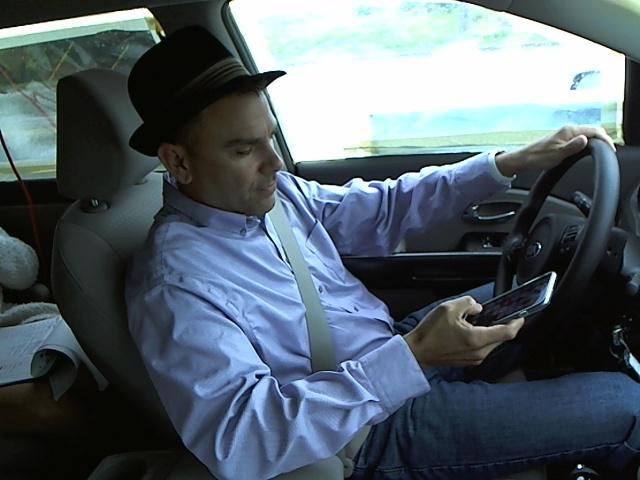PhoneUse: (452, 270, 567, 336)
